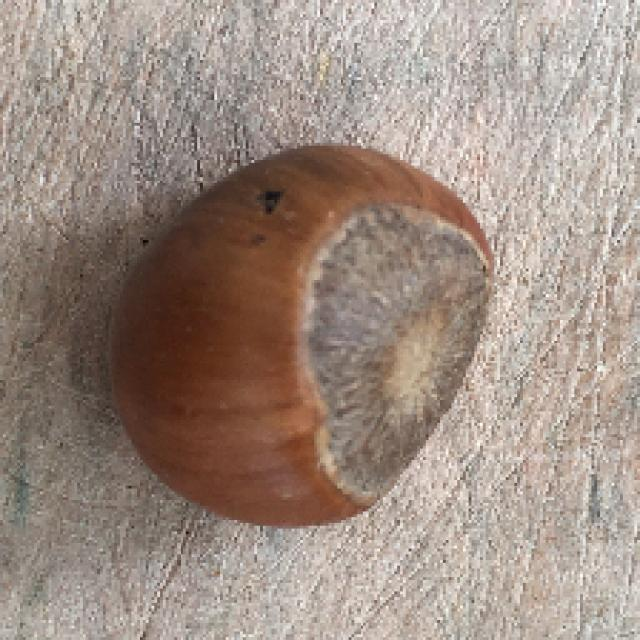qualityHazelnut: (95, 141, 491, 519)
